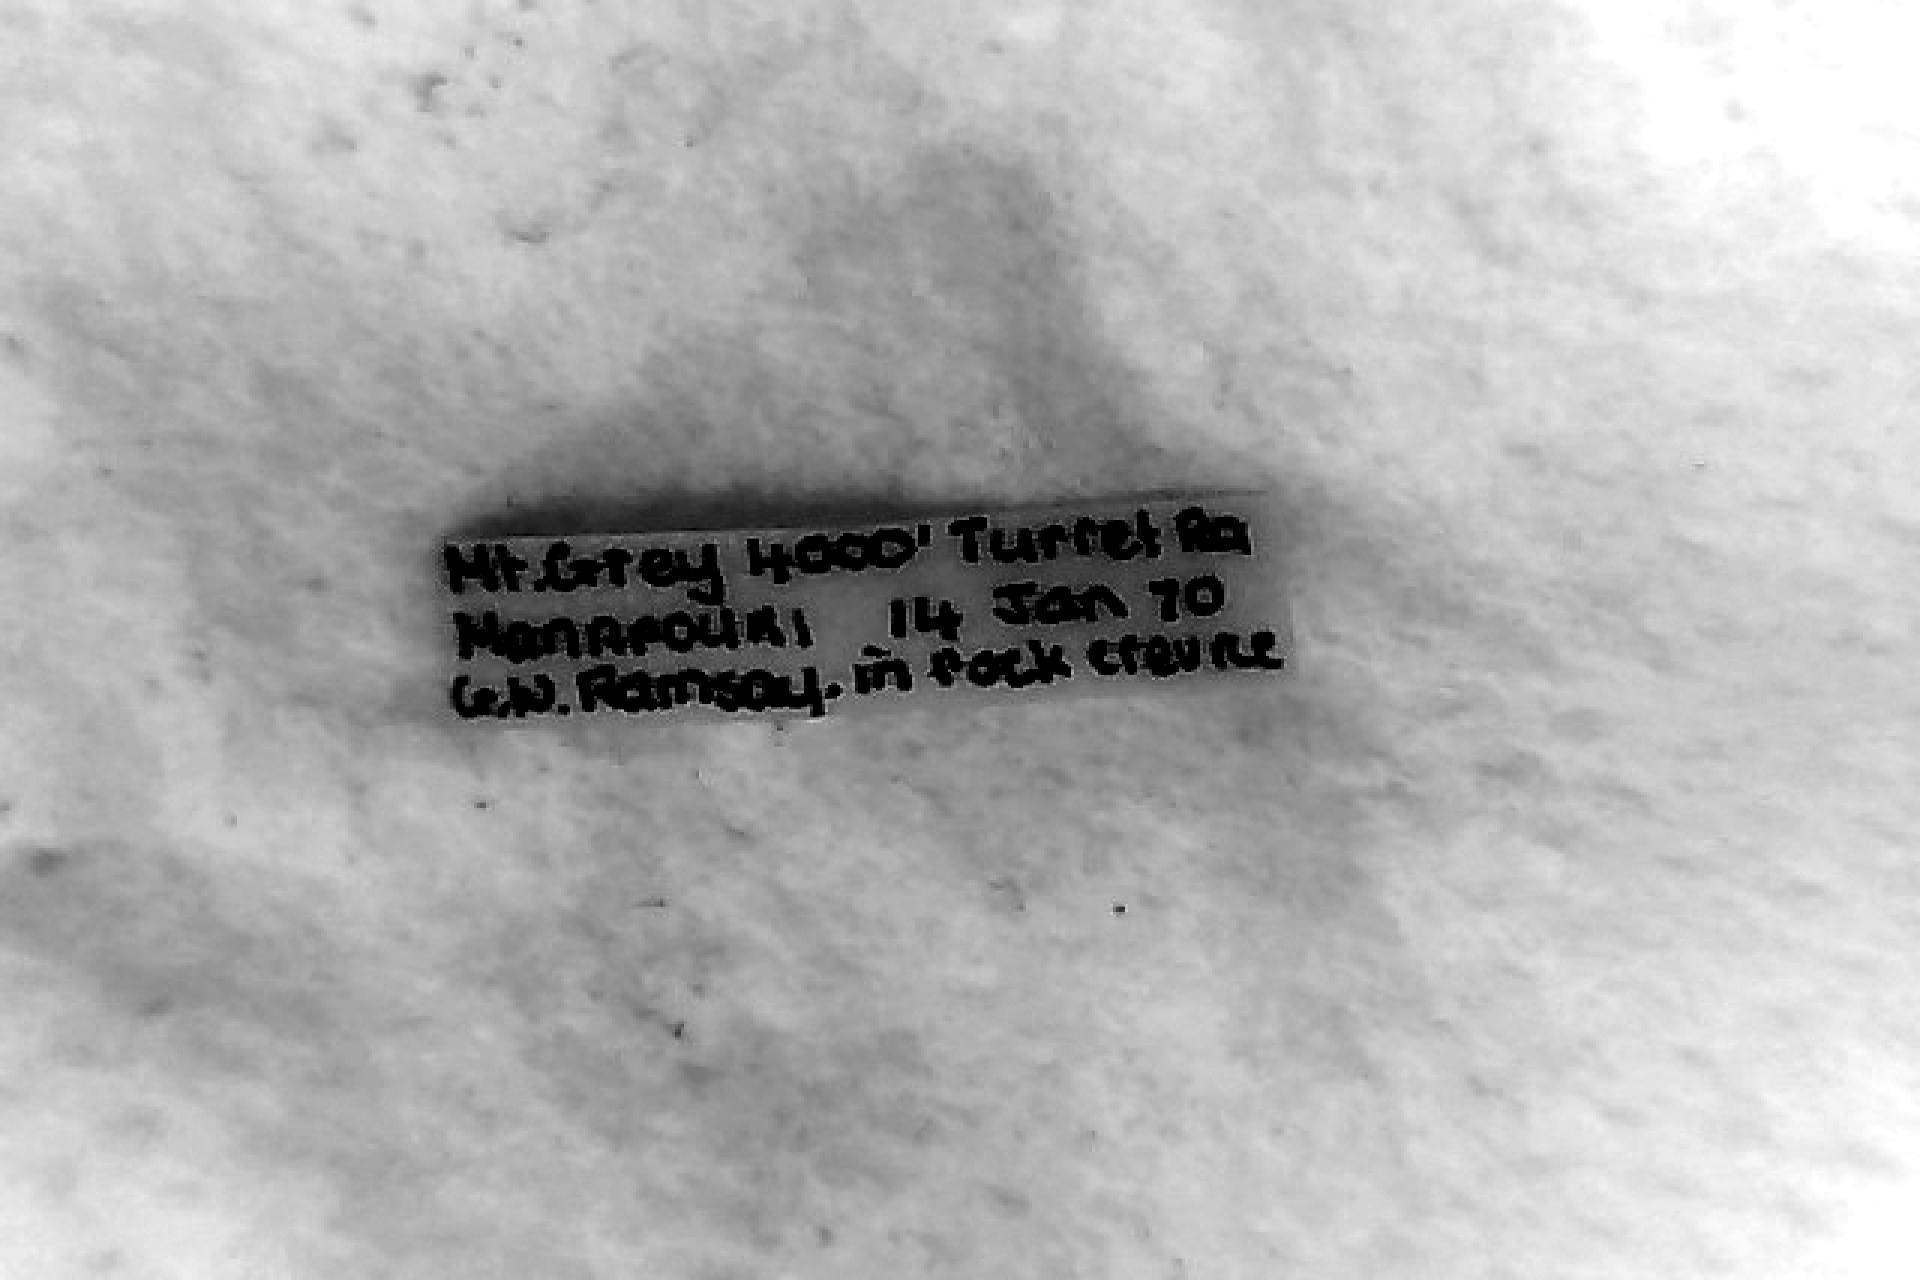hand_label: (442, 493, 1290, 718)
